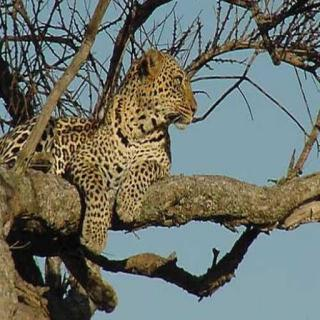Leopard: (9, 51, 226, 246)
